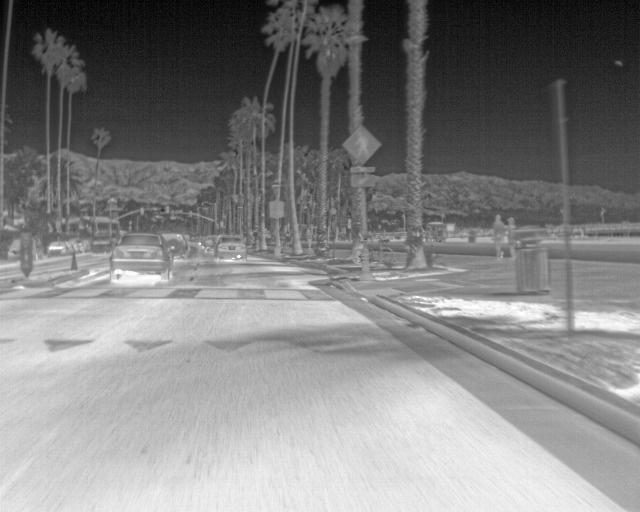bicycle: (108, 228, 176, 278), (211, 234, 248, 260), (161, 232, 189, 260), (9, 238, 25, 264), (45, 240, 66, 258)
empty: (490, 212, 507, 258), (502, 216, 518, 258)
